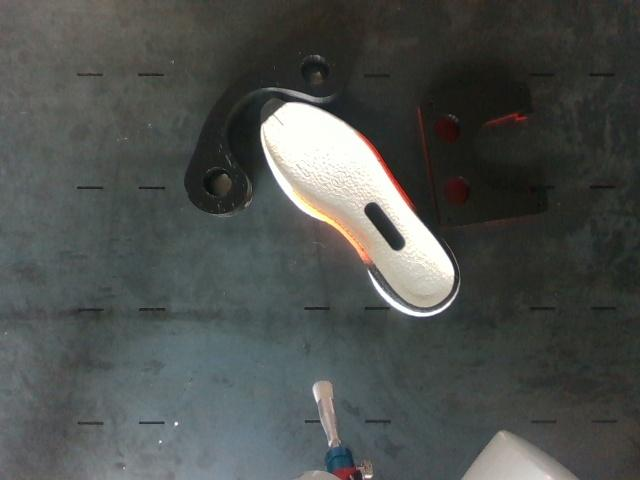shoes: (261, 100, 458, 312)
